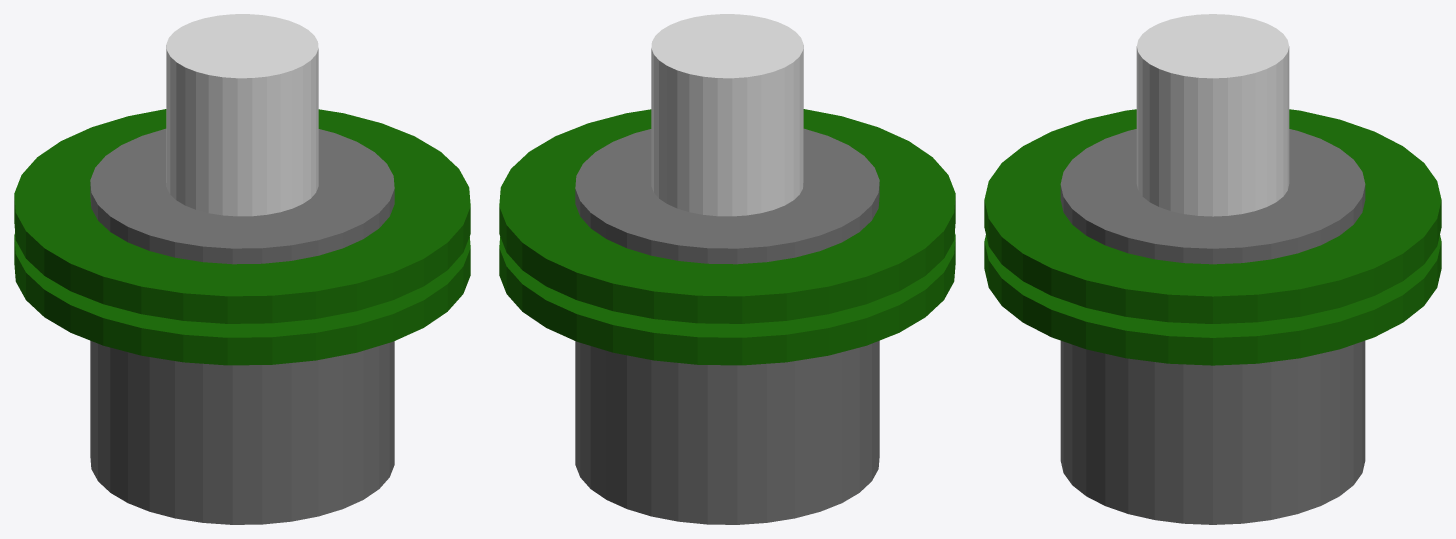
Rendered from waterExtractor.fbx.
3 views of the same model, side by side, from view 1: azimuth 30°, elevation 25°; view 2: azimuth 150°, elevation 25°; view 3: azimuth 270°, elevation 25° (orthographic).
Parts seen in each view (by area): view 1: eterExtractorBase, eterExtractorFins, eterExtractorTop; view 2: eterExtractorBase, eterExtractorFins, eterExtractorTop; view 3: eterExtractorBase, eterExtractorFins, eterExtractorTop.
Boxes of the visible parts, left/top/right/bottom form: eterExtractorBase: left=90, top=128, right=394, bottom=524; eterExtractorFins: left=14, top=109, right=470, bottom=365; eterExtractorTop: left=166, top=14, right=318, bottom=216; eterExtractorBase: left=575, top=128, right=879, bottom=524; eterExtractorFins: left=499, top=109, right=955, bottom=365; eterExtractorTop: left=651, top=14, right=803, bottom=216; eterExtractorBase: left=1060, top=129, right=1365, bottom=524; eterExtractorFins: left=984, top=109, right=1441, bottom=365; eterExtractorTop: left=1136, top=14, right=1289, bottom=216.
Size of the model in its own units: 300 by 300 by 300.
